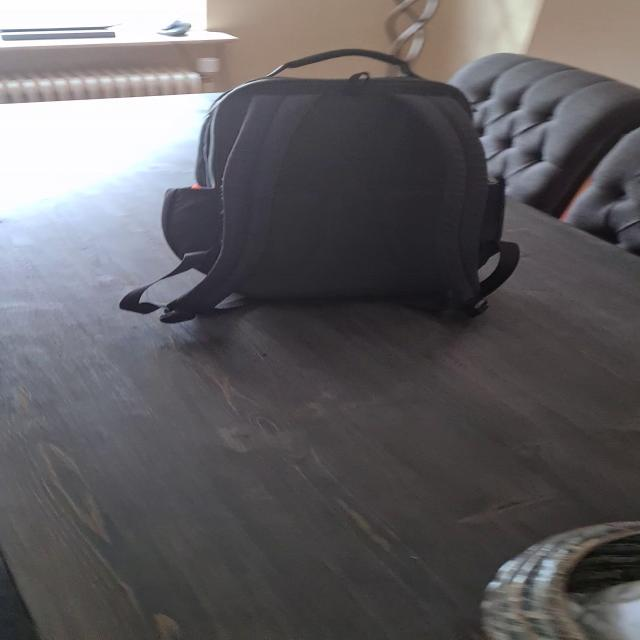backpack: (122, 37, 530, 326)
